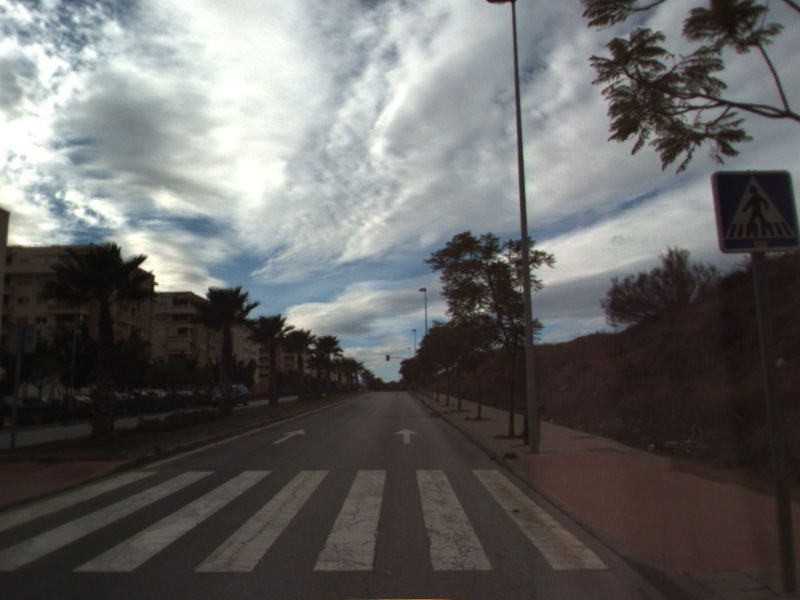STRAIGHT: (269, 427, 308, 446), (393, 426, 420, 446)
